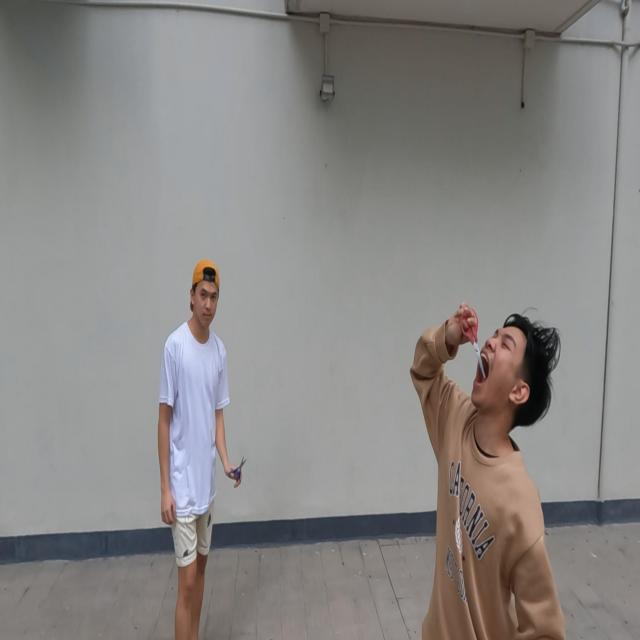scissor: (460, 308, 487, 381), (230, 456, 248, 485)
